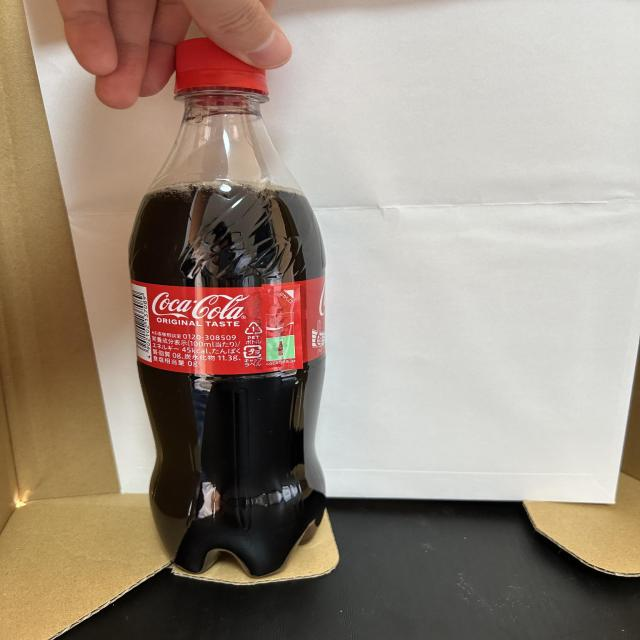high: (128, 37, 326, 575)
